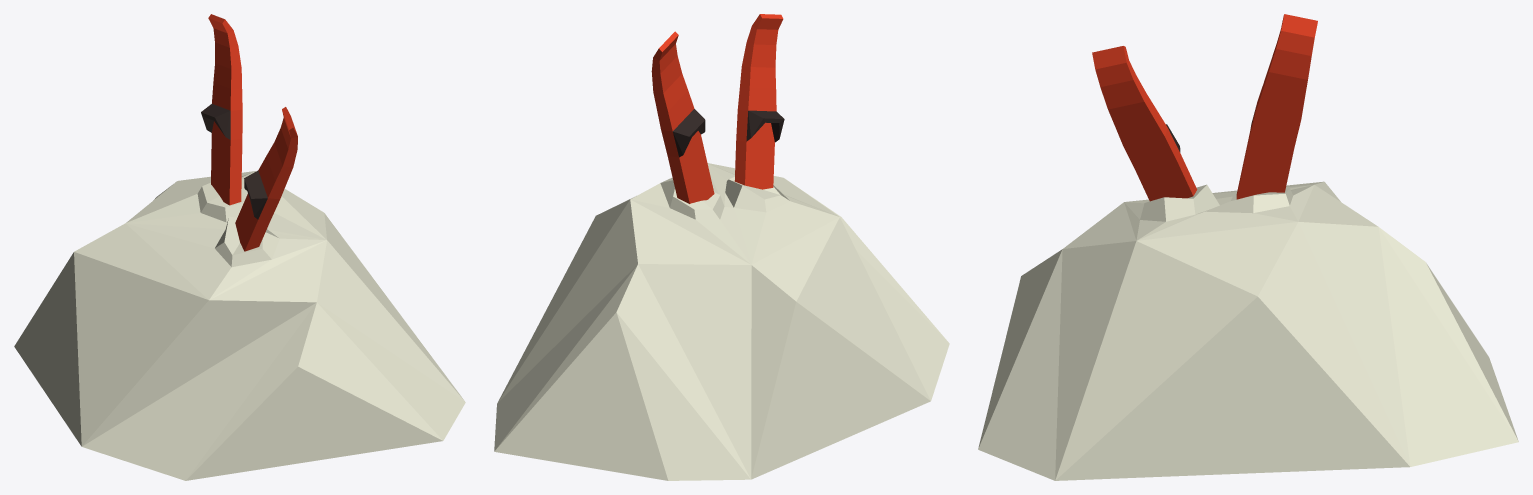
Rendered from ski in snowdrift.fbx.
3 renders of one model, left to right at view 1: azimuth 30°, elevation 25°; view 2: azimuth 150°, elevation 25°; view 3: azimuth 270°, elevation 25°, orthographic. The views are drawn at different scales.
Visible parts, largest first — view 1: Cube; view 2: Cube; view 3: Cube.
Part boxes in pixels (x1,y1,x2,y2): Cube: (14,14,465,480); Cube: (494,14,949,480); Cube: (978,14,1518,480).
Size of the model in its own units: 269 by 265 by 333.
